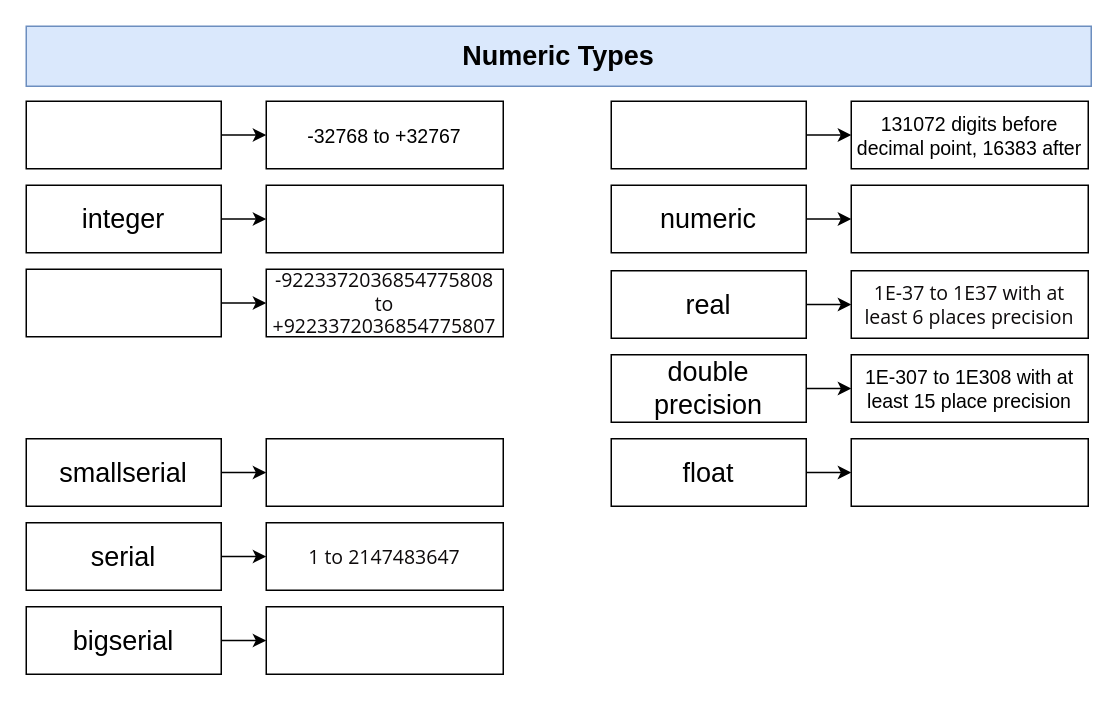
This 1118x701 diagram has some shape labels left out. Each missing label, with the centre of its shape:
"-2147583648 to 2174483647" belongs at pixel 384 218.
"1 to 32767" belongs at pixel 384 471.
"1 to 9223372036854775807" belongs at pixel 384 639.
"131072 before decimal point, 16383 after" belongs at pixel 969 218.
"bigint" belongs at pixel 123 302.
"decimal" belongs at pixel 708 134.
"Same as real or double precision" belongs at pixel 969 471.
"smallint" belongs at pixel 123 134.
